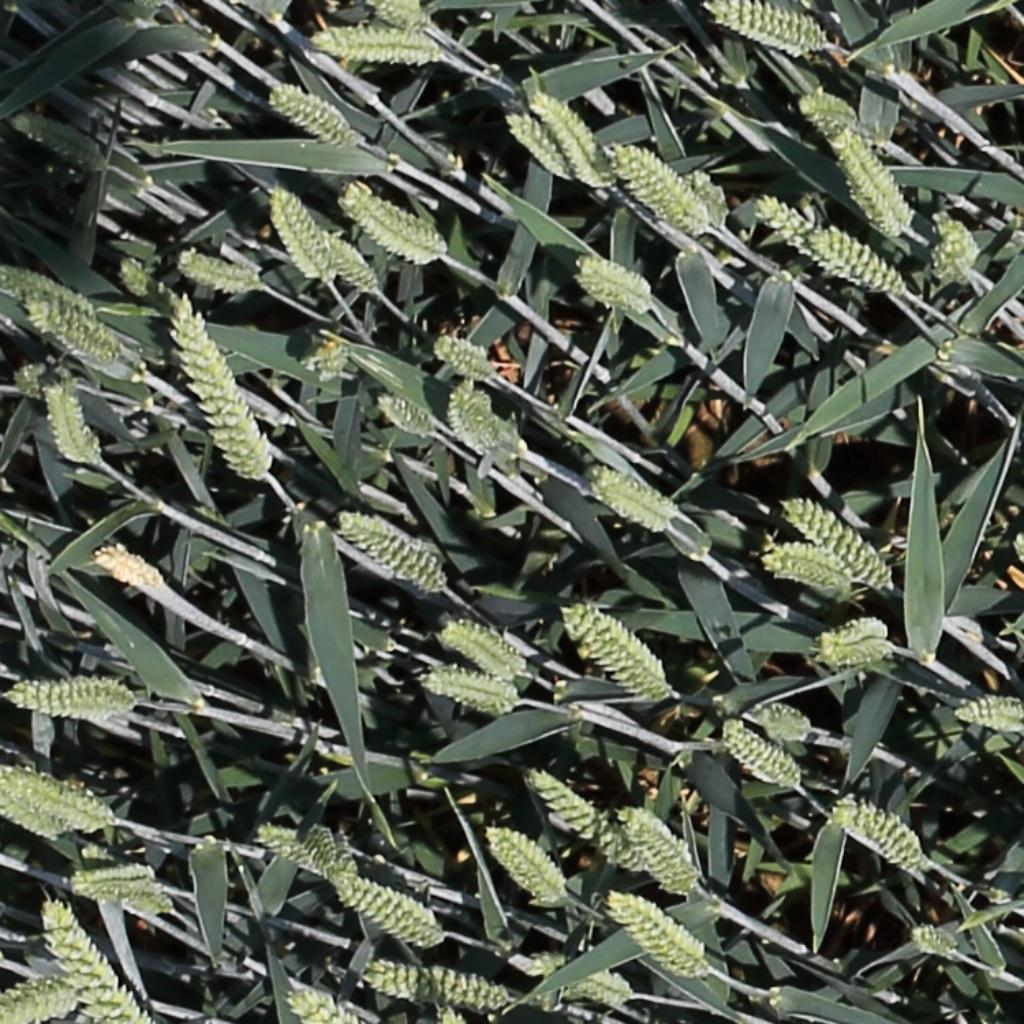0-0: (168, 292, 277, 480), (37, 892, 159, 1023), (524, 768, 661, 874), (754, 194, 890, 298), (560, 603, 679, 704), (777, 494, 896, 591), (820, 118, 916, 231), (337, 510, 452, 596), (607, 891, 717, 980), (614, 140, 712, 239), (328, 872, 452, 948), (337, 183, 449, 266), (825, 779, 928, 869), (528, 91, 619, 191), (0, 763, 124, 835), (362, 958, 514, 1016), (508, 940, 638, 1007), (615, 804, 705, 898), (805, 219, 911, 296), (705, 0, 830, 61), (264, 184, 337, 284), (485, 824, 575, 903), (23, 297, 122, 367), (4, 674, 143, 723), (584, 464, 680, 533), (723, 717, 806, 793), (268, 84, 362, 151), (309, 24, 443, 69), (0, 263, 101, 322), (10, 112, 110, 168), (416, 666, 527, 716), (441, 618, 530, 678), (257, 821, 348, 878), (44, 382, 104, 468), (576, 252, 659, 314), (502, 107, 572, 180), (762, 541, 859, 593), (811, 616, 897, 668), (178, 248, 268, 294), (324, 230, 384, 296), (449, 390, 501, 462), (1, 977, 82, 1023), (0, 792, 74, 842), (93, 542, 165, 593), (286, 977, 362, 1024), (63, 863, 164, 898), (377, 390, 440, 441), (436, 335, 500, 384), (308, 820, 358, 882), (933, 207, 983, 269), (952, 695, 1024, 735), (690, 166, 731, 232), (798, 90, 860, 133), (753, 703, 817, 744), (299, 337, 349, 385), (906, 920, 964, 961), (110, 889, 180, 918), (926, 243, 973, 282), (119, 259, 162, 299), (374, 1, 423, 28)
